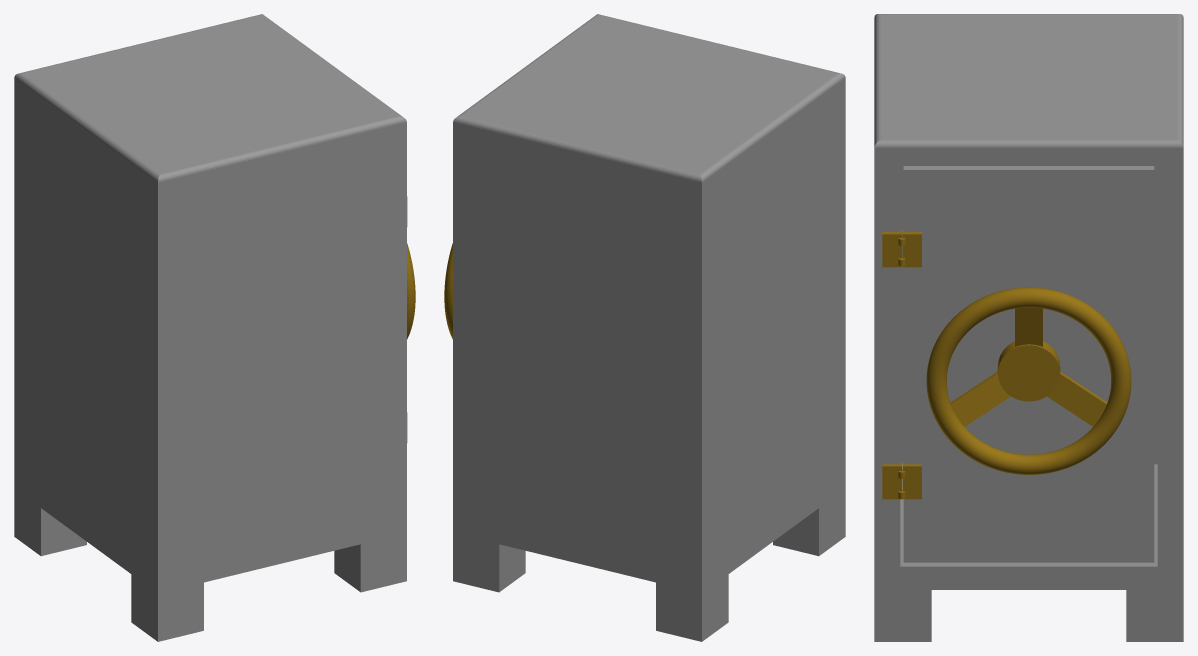
File: safe.fbx
3 views of the same model, side by side, from view 1: azimuth 30°, elevation 25°; view 2: azimuth 150°, elevation 25°; view 3: azimuth 270°, elevation 25° (orthographic). The views are drawn at different scales.
Parts seen in each view (by area): view 1: Safe, Torus; view 2: Safe, Torus; view 3: Safe, Door, Torus.
Part boxes in pixels (x1,y1,x2,y2): Safe: [14, 14, 407, 641]; Torus: [407, 243, 415, 339]; Safe: [453, 14, 845, 641]; Torus: [444, 243, 452, 339]; Safe: [874, 14, 1183, 641]; Door: [902, 166, 1154, 562]; Torus: [926, 287, 1131, 474].
Bounding box in the file's own units: 229 × 357 × 200.
